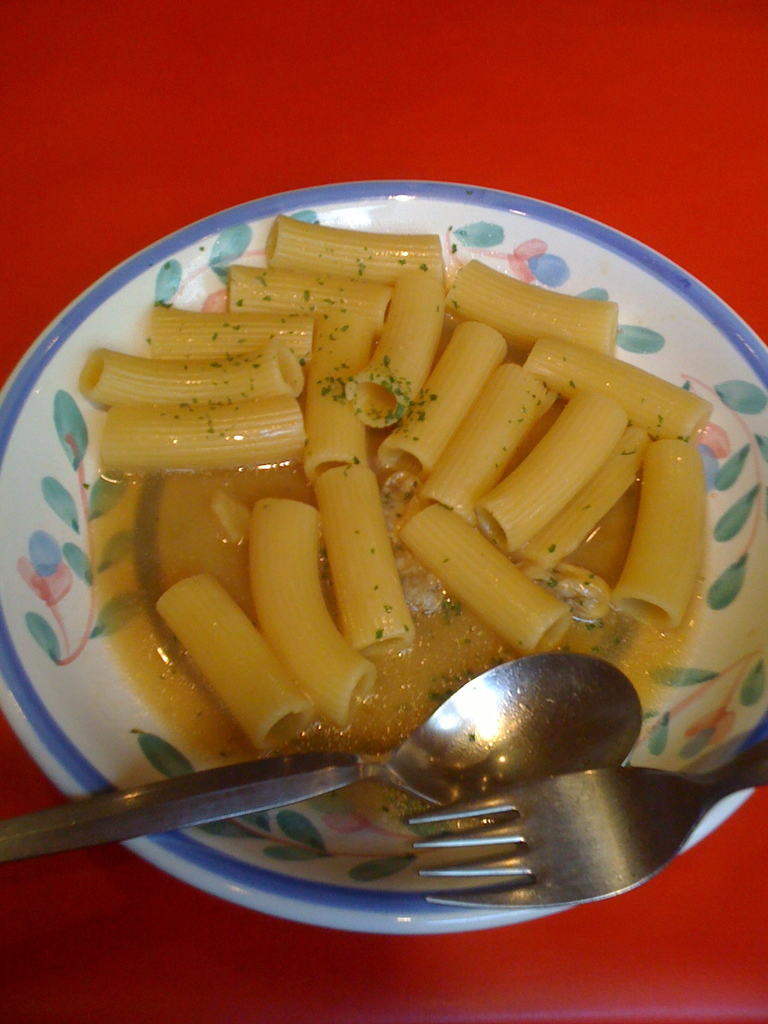pasta: (81, 183, 733, 796)
